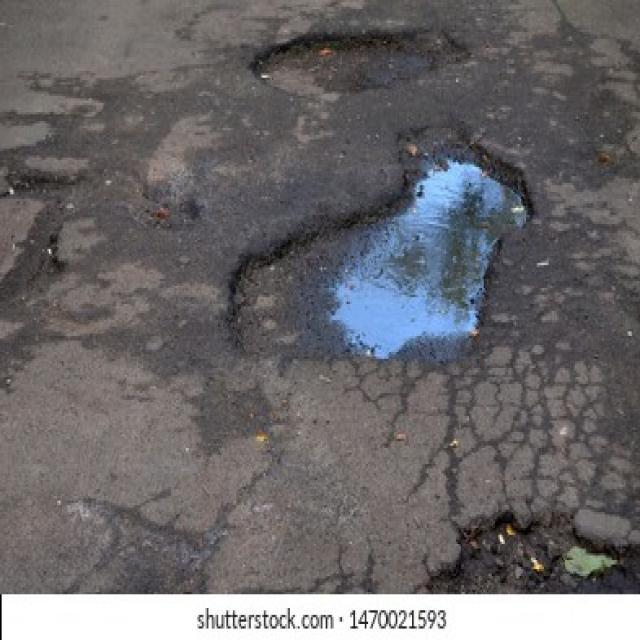Pothole: (227, 116, 538, 364), (422, 510, 640, 594), (248, 23, 470, 100), (0, 169, 80, 316), (108, 162, 206, 235)
